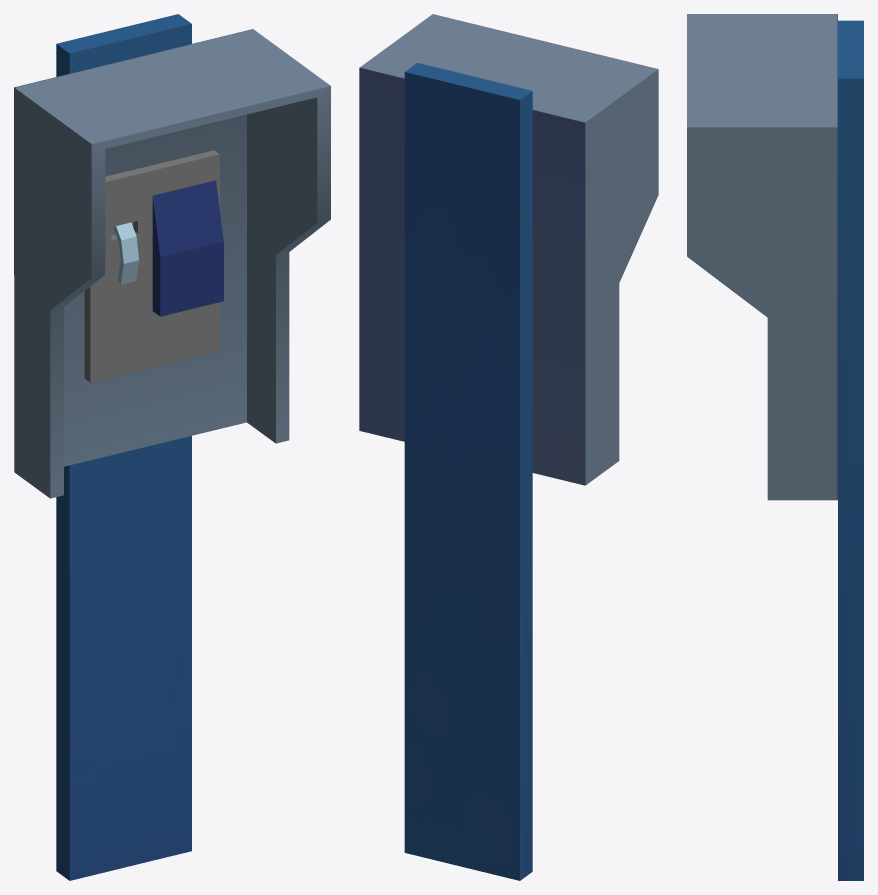
The model's file is payphone.fbx.
3 renders of one model, left to right at view 1: azimuth 30°, elevation 25°; view 2: azimuth 150°, elevation 25°; view 3: azimuth 270°, elevation 25°, orthographic. The views are drawn at different scales.
Parts seen in each view (by area): view 1: phoneboth; view 2: phoneboth; view 3: phoneboth.
Part boxes in pixels (x1=…): phoneboth: x1=14, y1=14, x2=330, y2=880; phoneboth: x1=359, y1=14, x2=658, y2=880; phoneboth: x1=687, y1=14, x2=863, y2=880.
Bounding box in the file's own units: 57.13 × 189 × 37.71.
